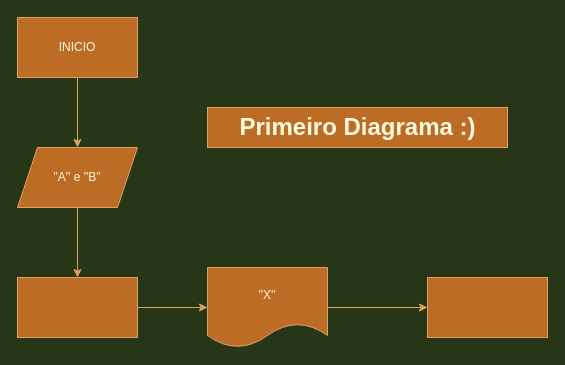
The diagram is 565 pixels wide and 365 high, and some of its shapes have lost their labels. Here are the shapes that lost their labels. From the top down, the centre of each, then its label:
At (x=77, y=307): "A + B = X".
At (x=487, y=307): "FIM".
